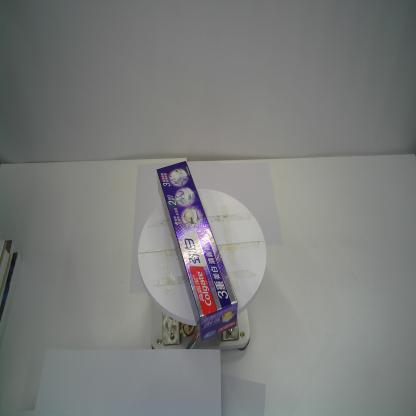Personal Hygiene: (154, 158, 240, 342)
